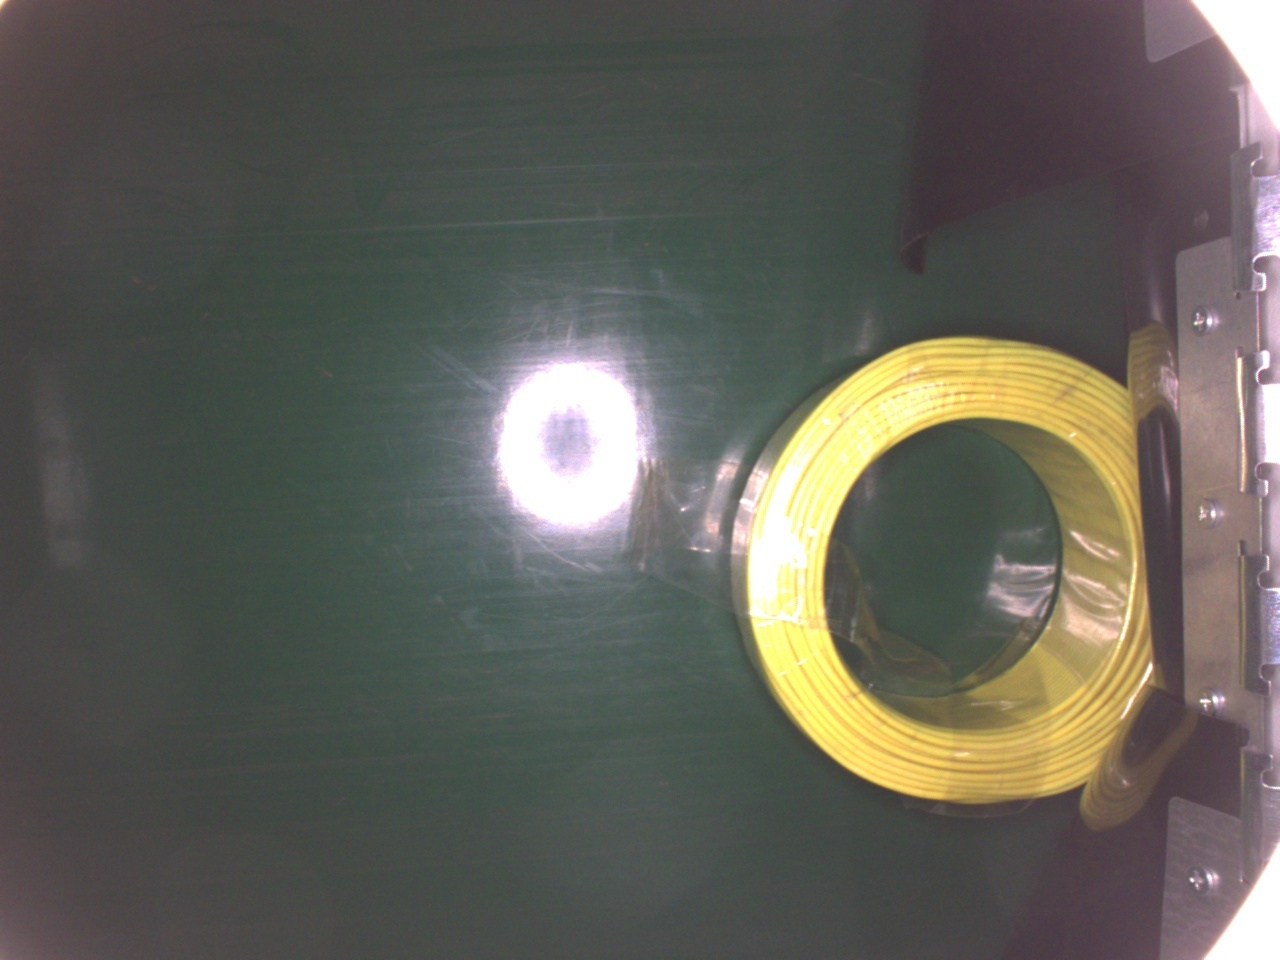yellow: (726, 332, 1163, 807)
